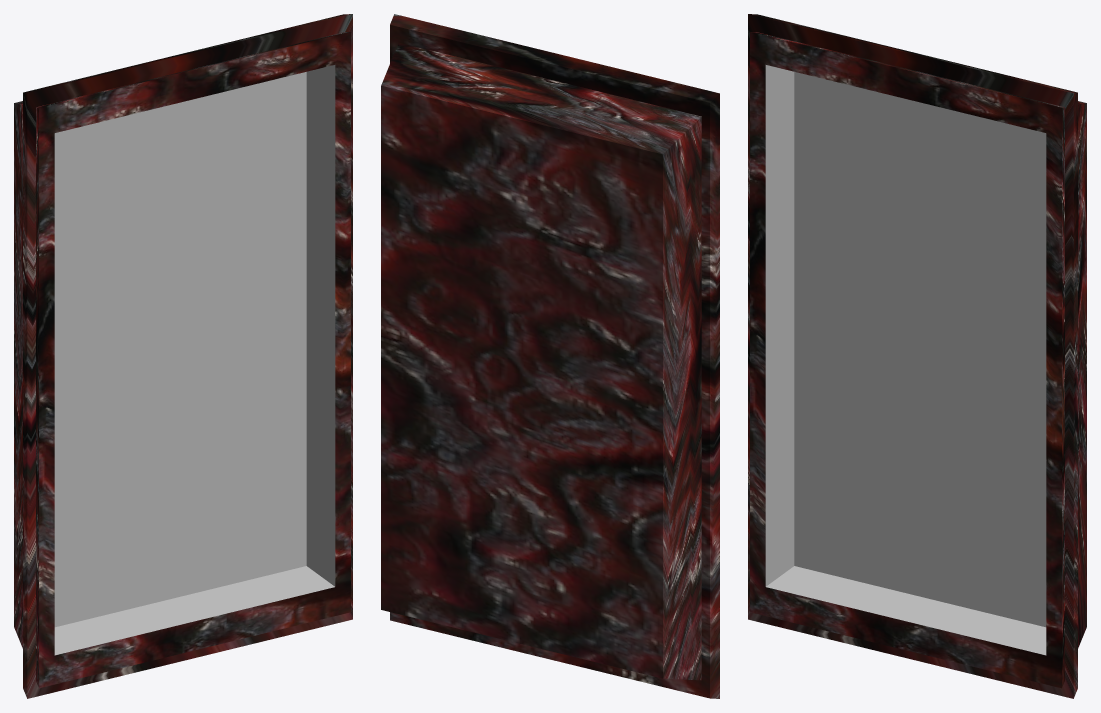
File: Table.obj
3 views of the same model, side by side, from view 1: azimuth 30°, elevation 25°; view 2: azimuth 150°, elevation 25°; view 3: azimuth 330°, elevation 25° (orthographic).
Visible parts, largest first — view 1: Cube.002_Cube.002_Material.001, Cube.002_Cube.002_Material.000; view 2: Cube.002_Cube.002_Material.000; view 3: Cube.002_Cube.002_Material.001, Cube.002_Cube.002_Material.000.
Part boxes in pixels (bbox=[...]): Cube.002_Cube.002_Material.001: bbox=[54, 65, 335, 655]; Cube.002_Cube.002_Material.000: bbox=[14, 14, 352, 698]; Cube.002_Cube.002_Material.000: bbox=[381, 14, 719, 698]; Cube.002_Cube.002_Material.001: bbox=[765, 65, 1046, 655]; Cube.002_Cube.002_Material.000: bbox=[748, 14, 1086, 698].
Size of the model in its own units: 188 by 334 by 40.
